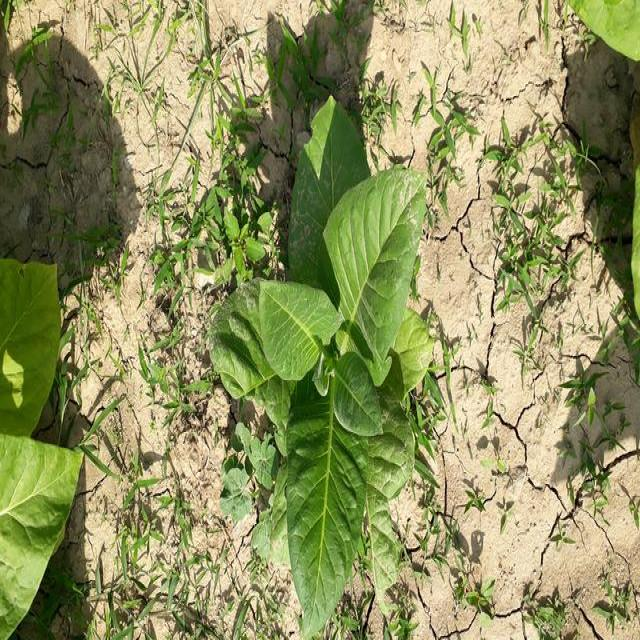crop: (221, 84, 423, 615), (6, 248, 66, 640), (579, 0, 640, 65)
